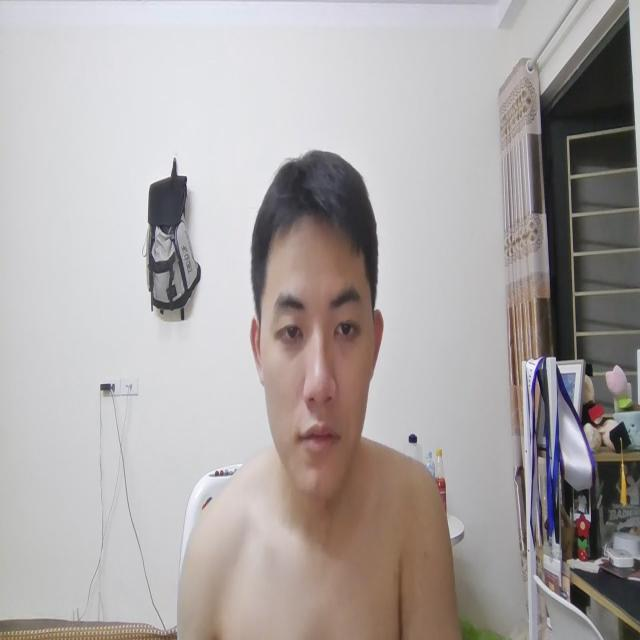student: (244, 139, 386, 542)
